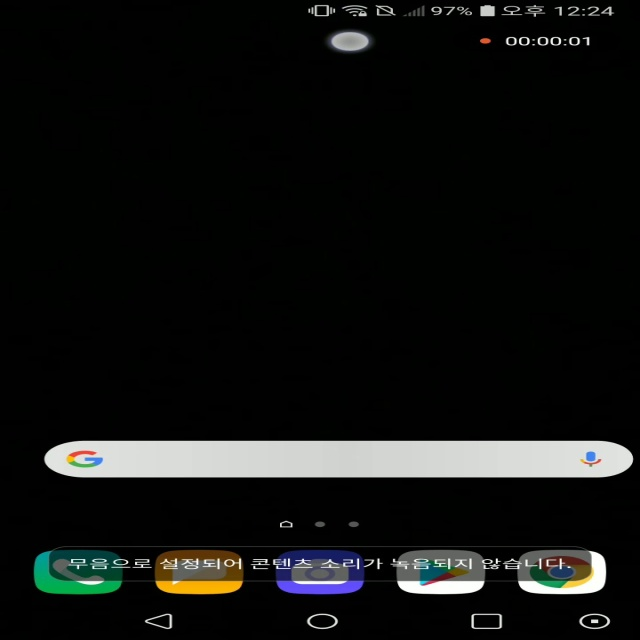Cursor: (328, 31, 373, 53)
